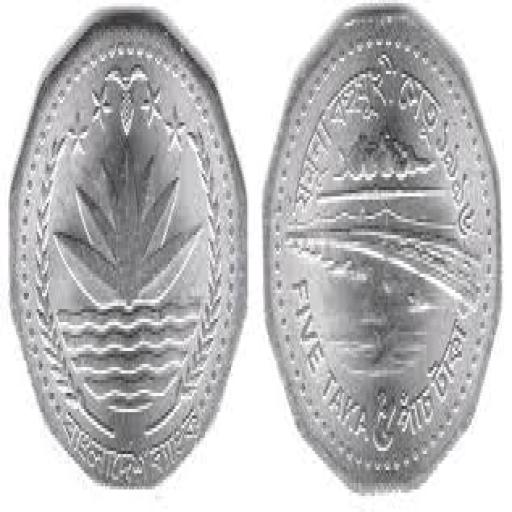5taka: (263, 6, 499, 486), (10, 10, 246, 483)
